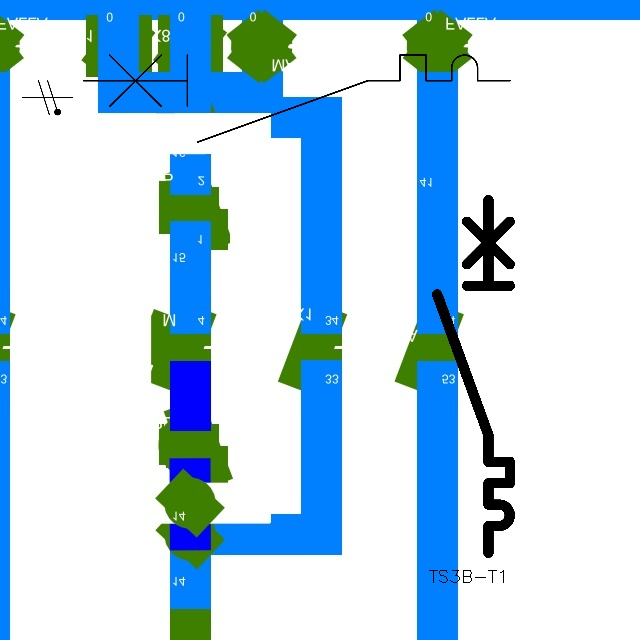interruptor_termomagnetico: (72, 44, 520, 153), (428, 191, 519, 562)
